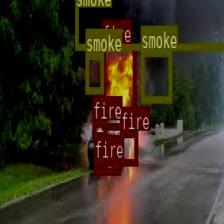fire: (101, 42, 136, 128), (120, 129, 137, 164), (93, 158, 119, 174), (92, 120, 106, 138)
smoke: (74, 0, 224, 49), (140, 48, 171, 102), (84, 52, 104, 92)
